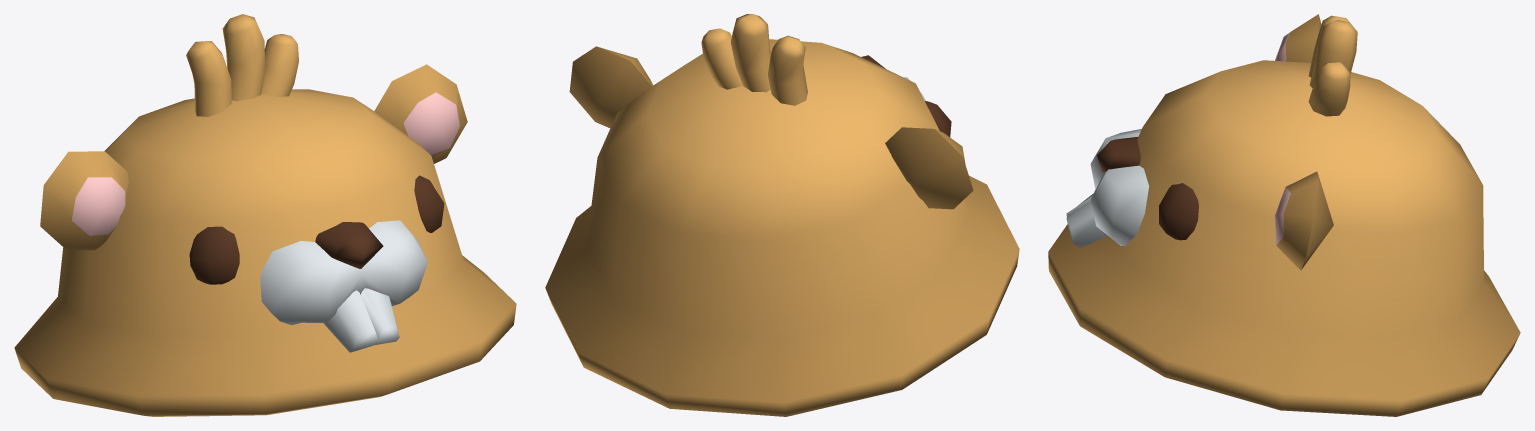
File: Headgear_18.fbx
The picture shows the model from 3 angles, left to right: view 1: azimuth 30°, elevation 25°; view 2: azimuth 150°, elevation 25°; view 3: azimuth 270°, elevation 25°; orthographic projection. The views are drawn at different scales.
Visible parts, largest first — view 1: Headgear_18; view 2: Headgear_18; view 3: Headgear_18.
Part boxes in pixels (<box>): Headgear_18: <box>14,14,516,416</box>; Headgear_18: <box>545,14,1019,416</box>; Headgear_18: <box>1048,14,1520,416</box>.
Bounding box in the file's own units: 103 × 79.15 × 101.
